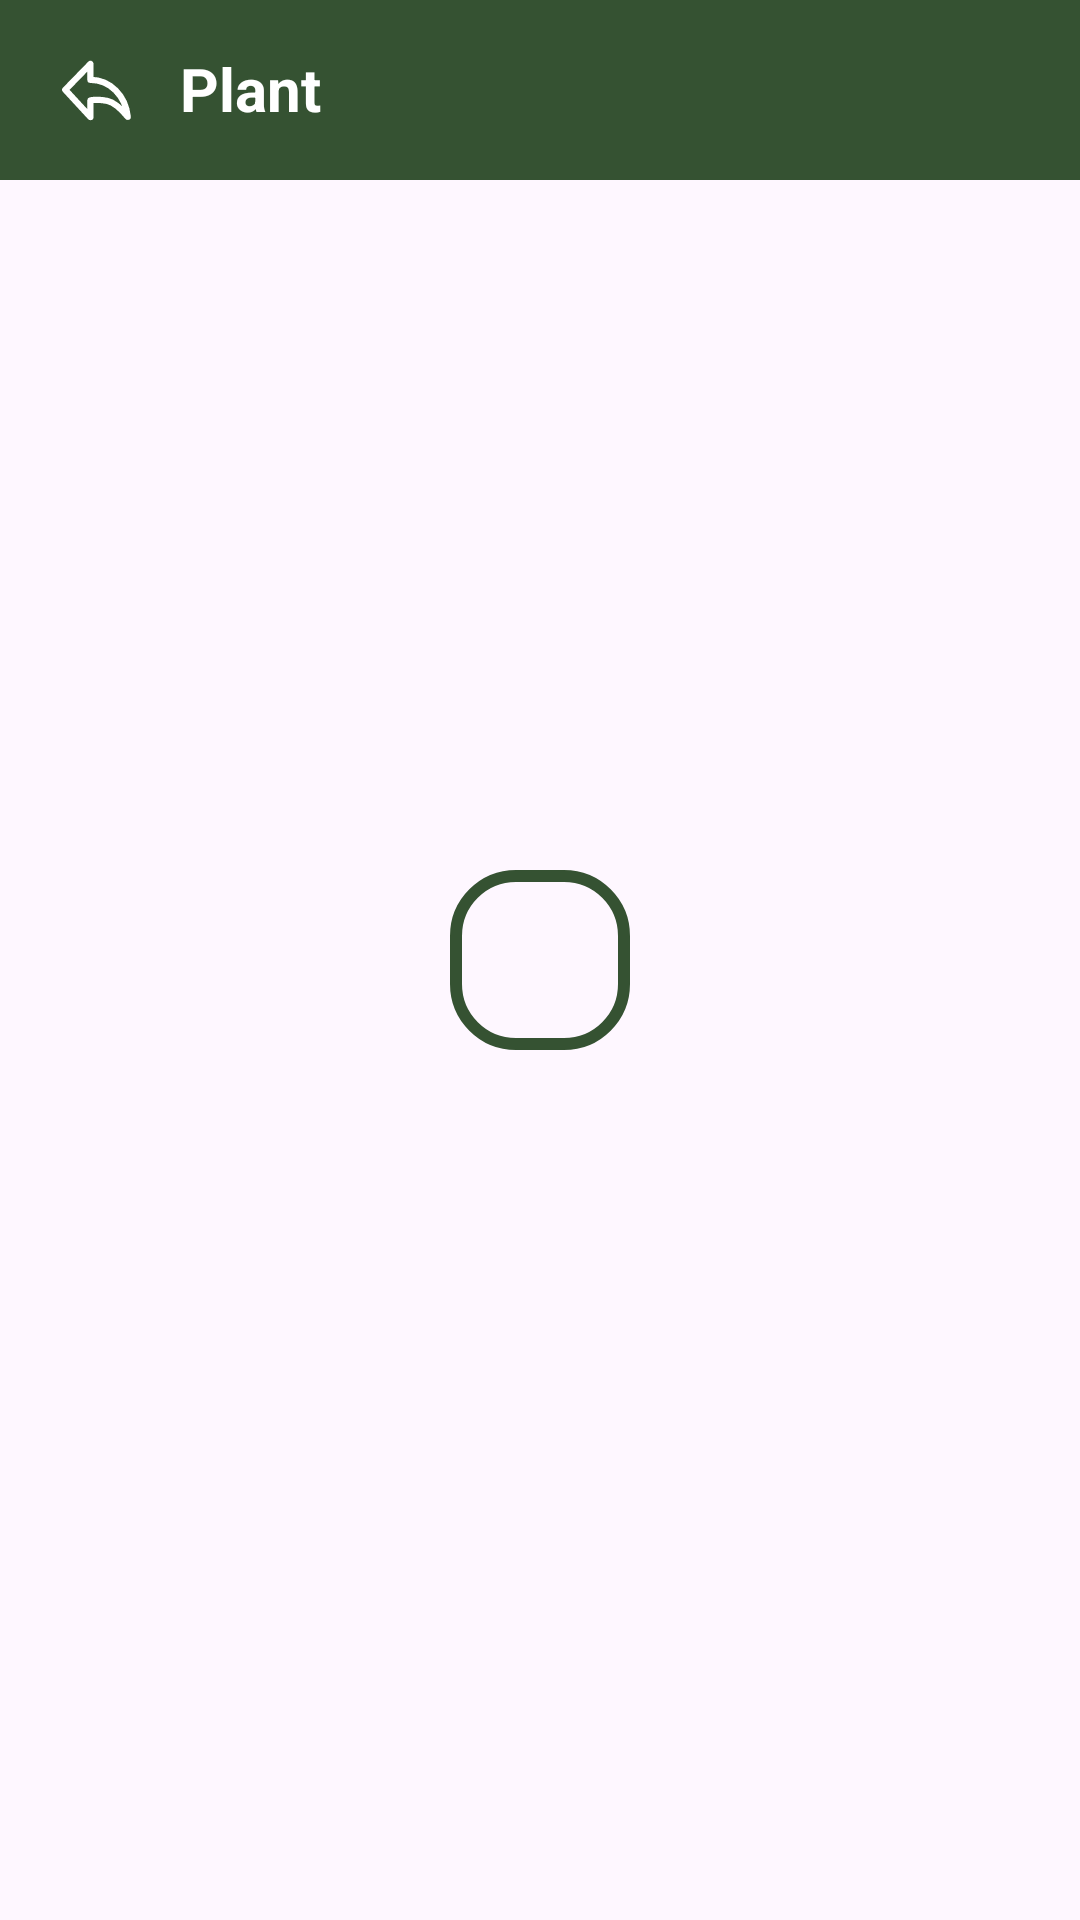

Where icons sit on this 1080px x 1920px app screen, as (x1,y1,x2,y2):
back button description: (62,60,131,121)
